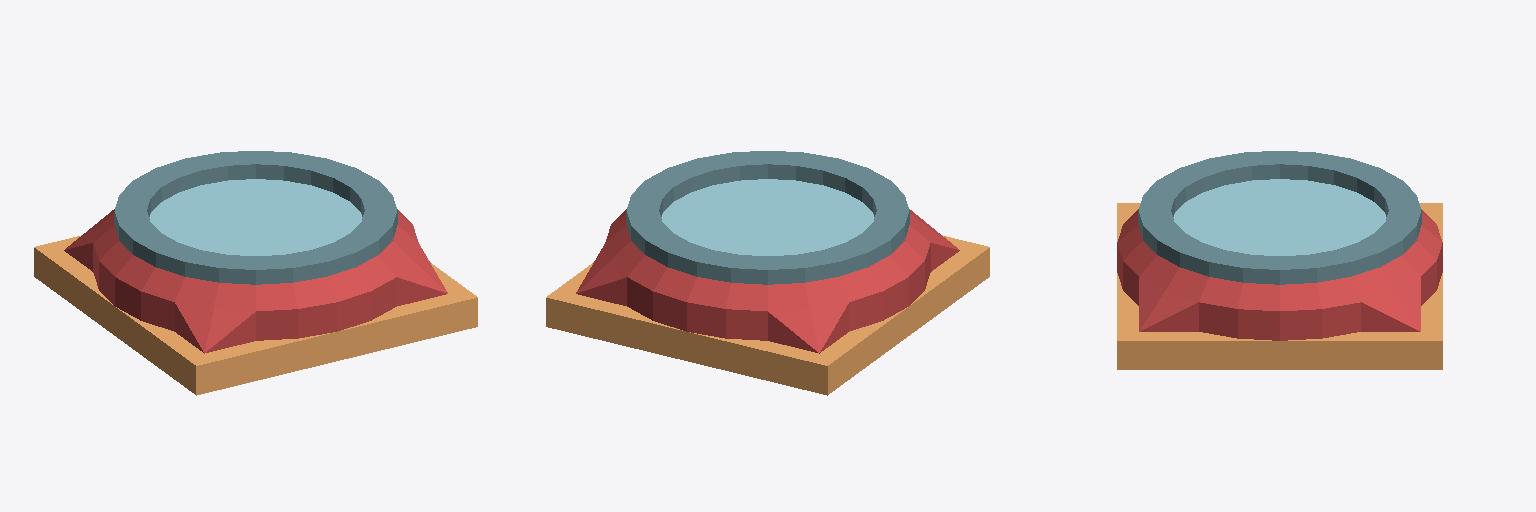
Rendered from tile_startpoint.obj.
3 renders of one model, left to right at view 1: azimuth 30°, elevation 25°; view 2: azimuth 150°, elevation 25°; view 3: azimuth 270°, elevation 25°, orthographic.
Visible parts, largest first — view 1: towerRound_base, tile_dirt; view 2: towerRound_base, tile_dirt; view 3: towerRound_base, tile_dirt.
Part boxes in pixels (x1,y1,x2,y2): towerRound_base: (64, 151, 447, 353); tile_dirt: (34, 235, 477, 395); towerRound_base: (576, 151, 959, 353); tile_dirt: (546, 235, 989, 395); towerRound_base: (1117, 151, 1442, 340); tile_dirt: (1117, 203, 1442, 369).
Size of the model in its own units: 1 by 0.31 by 1.